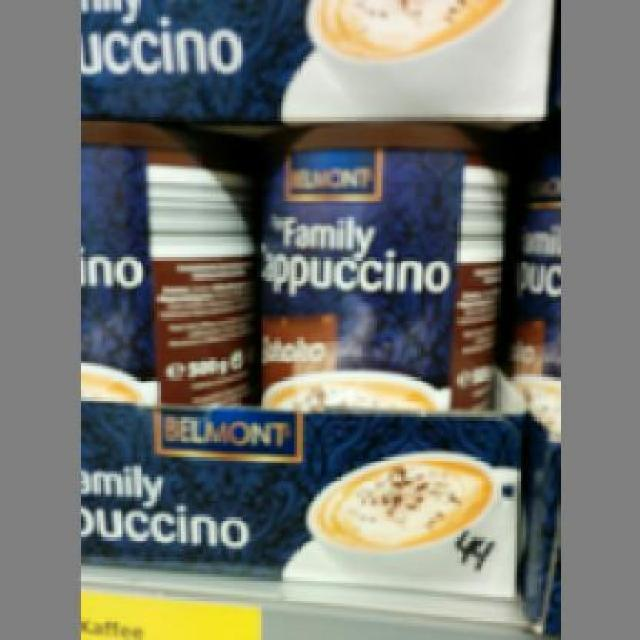Coffee: (254, 123, 503, 406), (80, 117, 254, 400)
